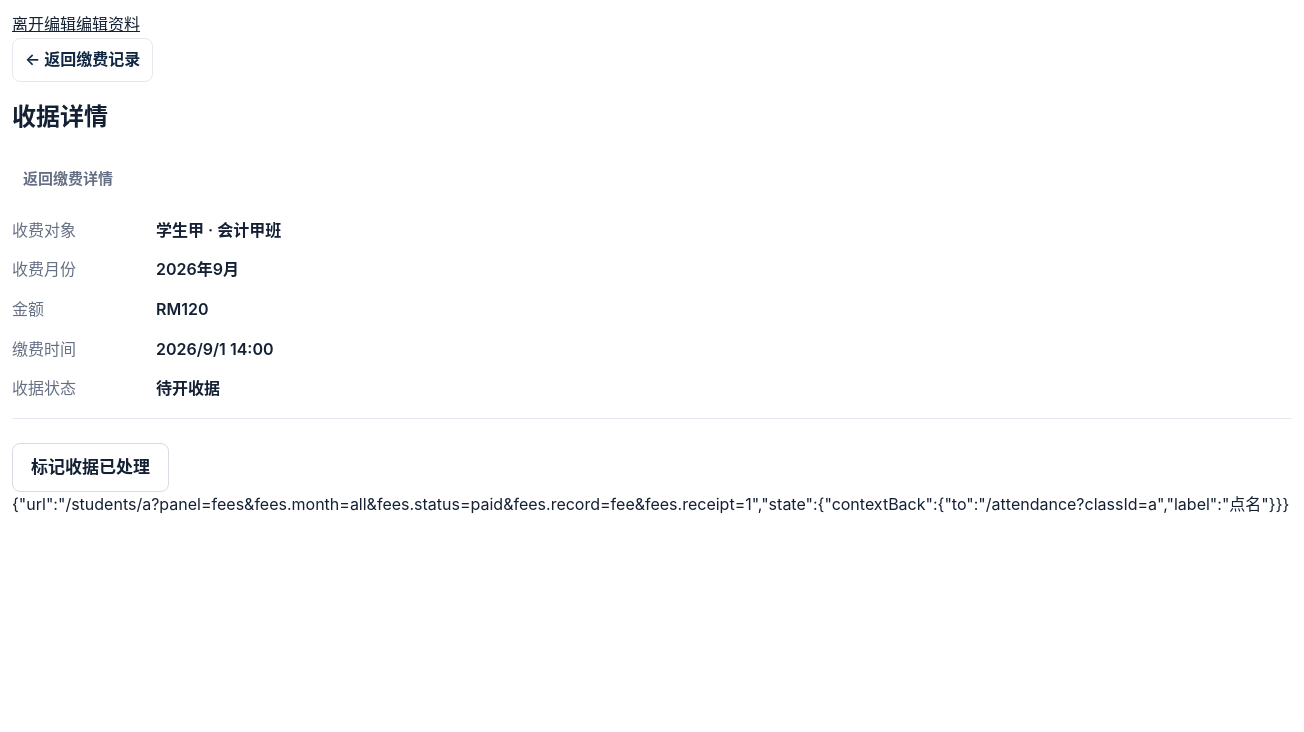
restores the students URL, filters and source after a real edit/save, and refreshes receipt identity without generation
The image size is (1304, 732).
Expected: the text "学生甲 · 会计甲班" is shown, left=156, top=220, right=281, bottom=240
Click the link "编辑资料" at (108, 24), box left=76, top=14, right=140, bottom=34
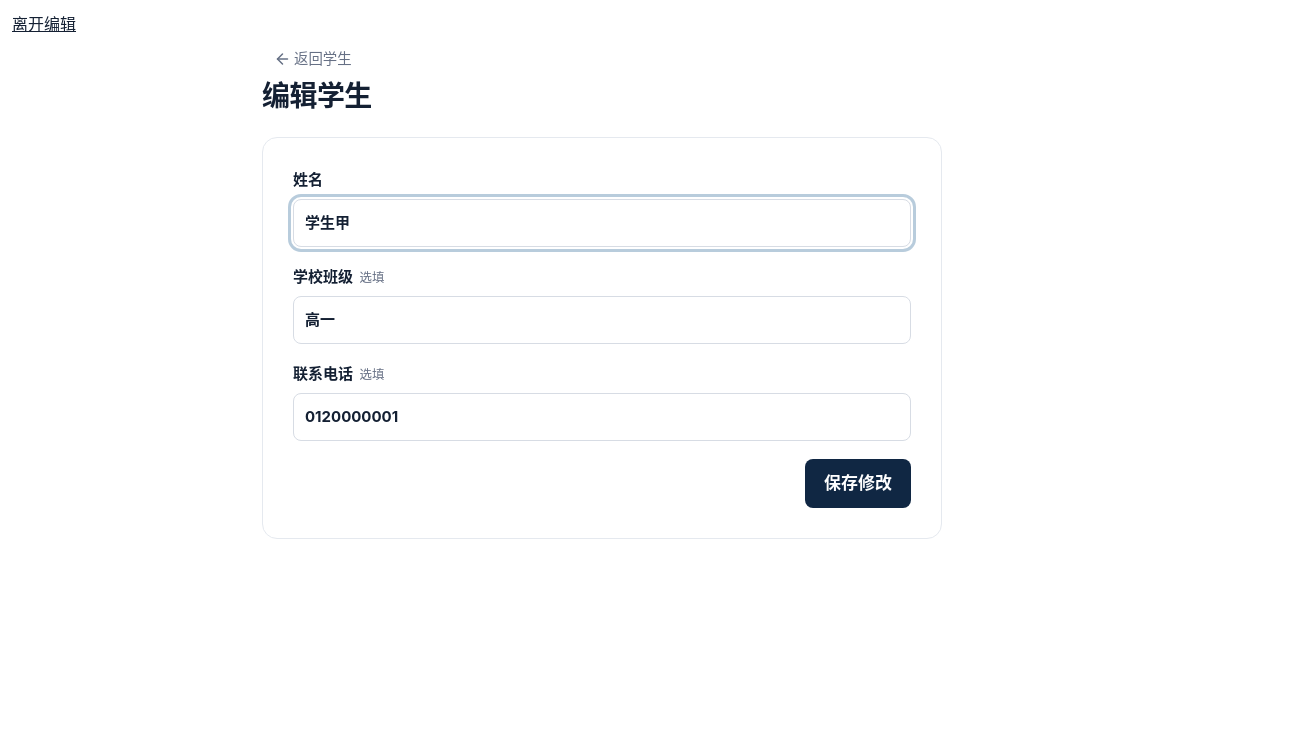
Replace the text in the field labelled "姓名" with "新身份" at (602, 223), box left=293, top=199, right=911, bottom=247
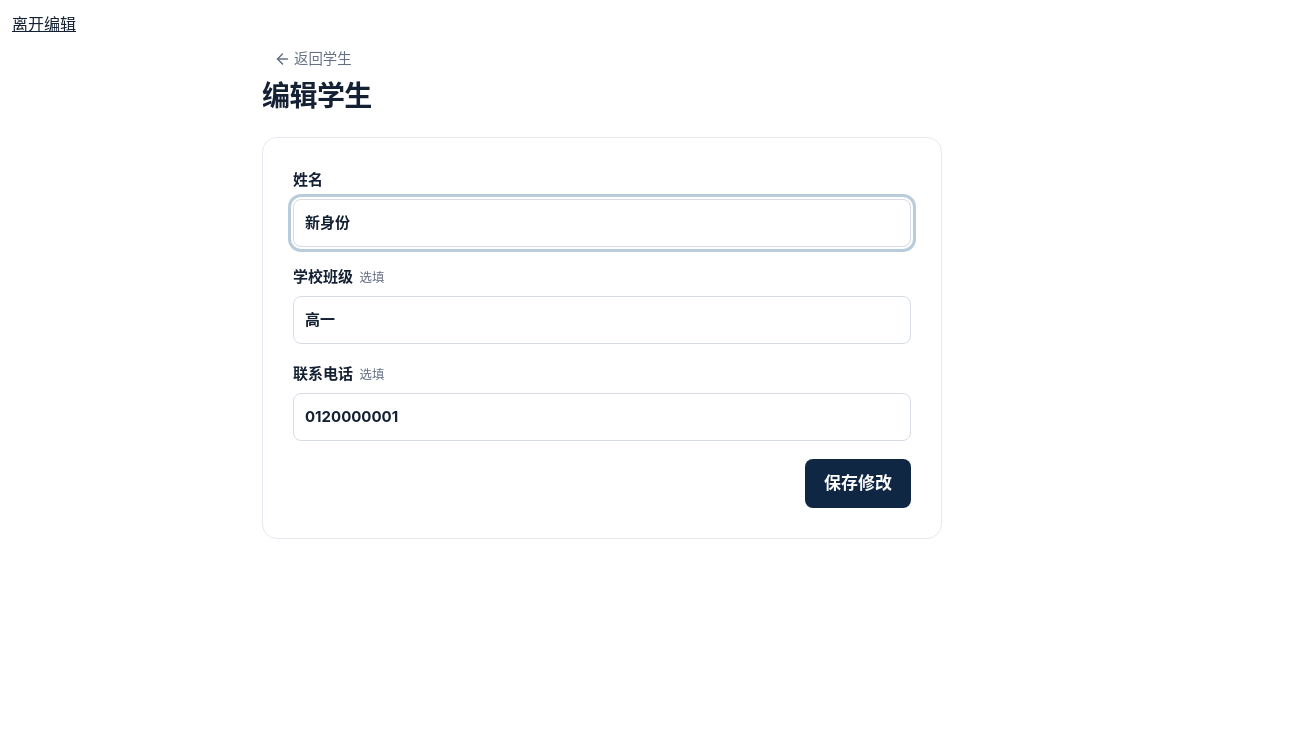
Click the button "保存修改" at (858, 483), box left=805, top=459, right=911, bottom=508
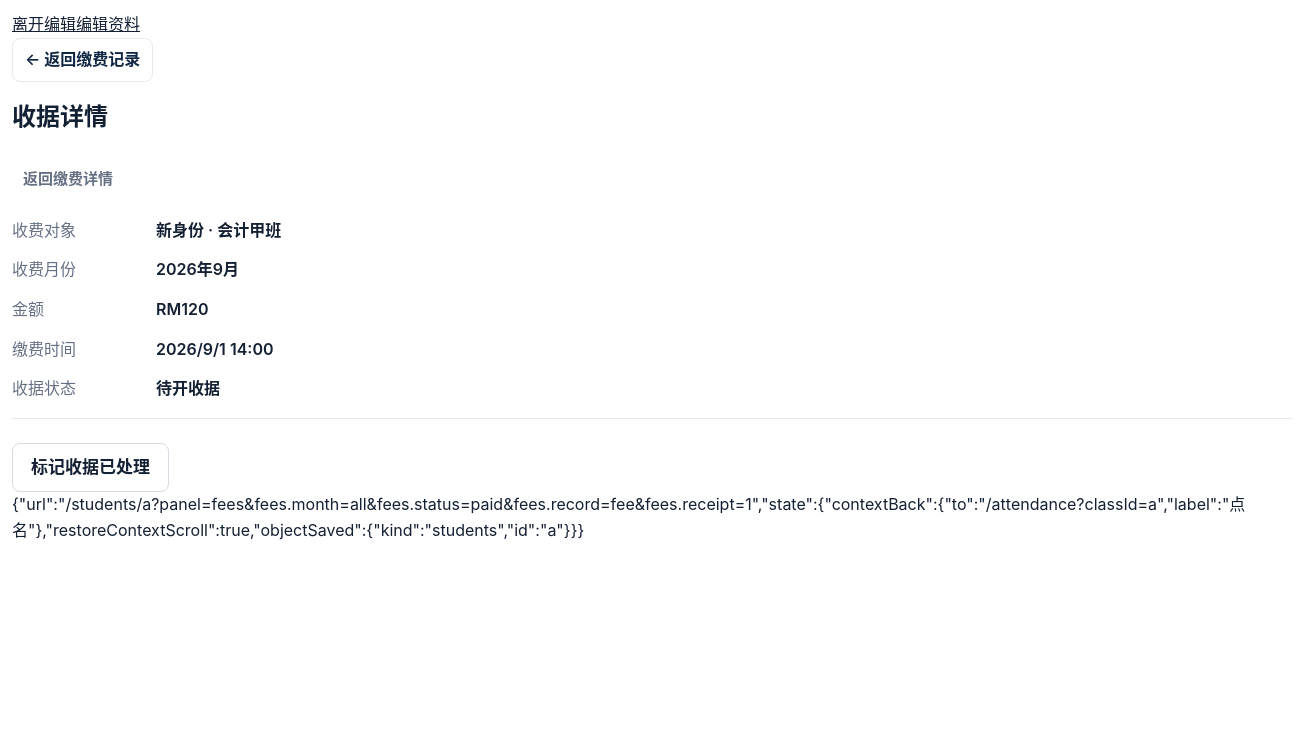
Expected: the text "新身份 · 会计甲班" is shown, left=156, top=220, right=281, bottom=240
Expected: the text with test id "location" shows "/attendance?classId=a", left=12, top=494, right=1245, bottom=540
Expected: the text with test id "location" shows "restoreContextScroll", left=12, top=494, right=1245, bottom=540
